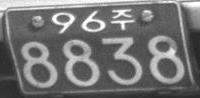3: (100, 35, 142, 85)
6: (81, 10, 106, 32)
8: (146, 34, 185, 85), (62, 38, 99, 88), (20, 40, 57, 89)
9: (51, 11, 75, 33)
주: (110, 8, 135, 30)
